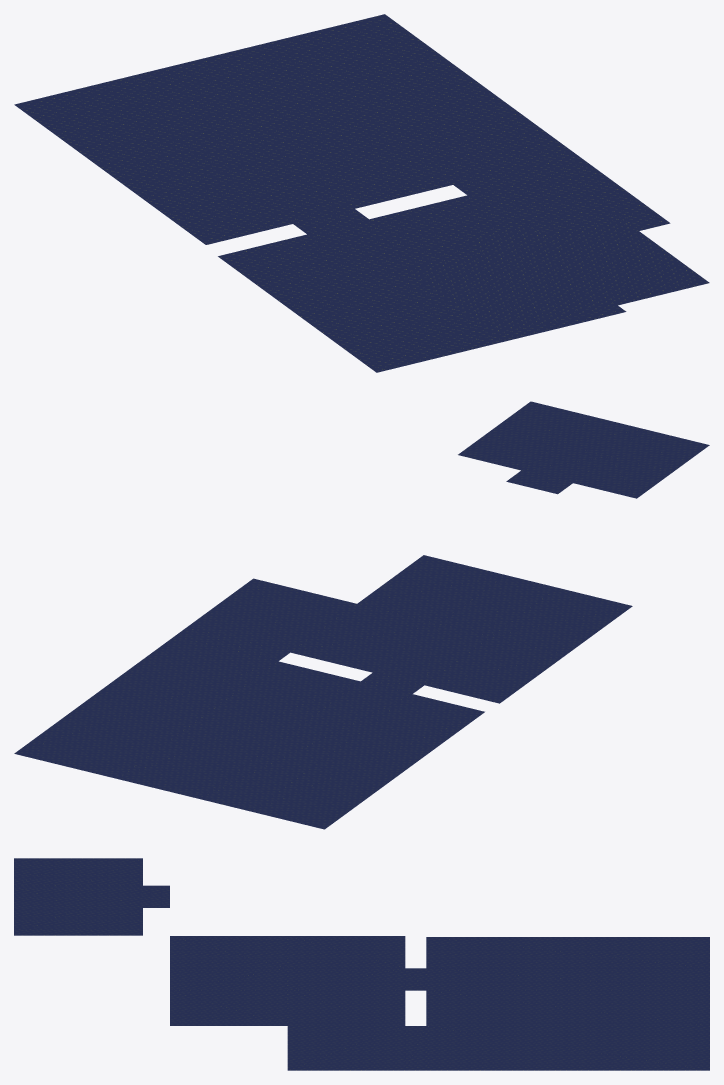
File: prototype_roomFloor.obj
The picture shows the model from 3 angles, top to bottom: view 1: azimuth 30°, elevation 25°; view 2: azimuth 150°, elevation 25°; view 3: azimuth 270°, elevation 25°; orthographic projection. The views are drawn at different scales.
Visible parts, largest first — view 1: Cube.001; view 2: Cube.001; view 3: Cube.001.
Boxes of the visible parts, x1,y1,x2,y2 form: Cube.001: (14,14,709,372); Cube.001: (14,401,709,829); Cube.001: (14,858,709,1070).
Size of the model in its own units: 7.54 by 2.15 by 16.47.
